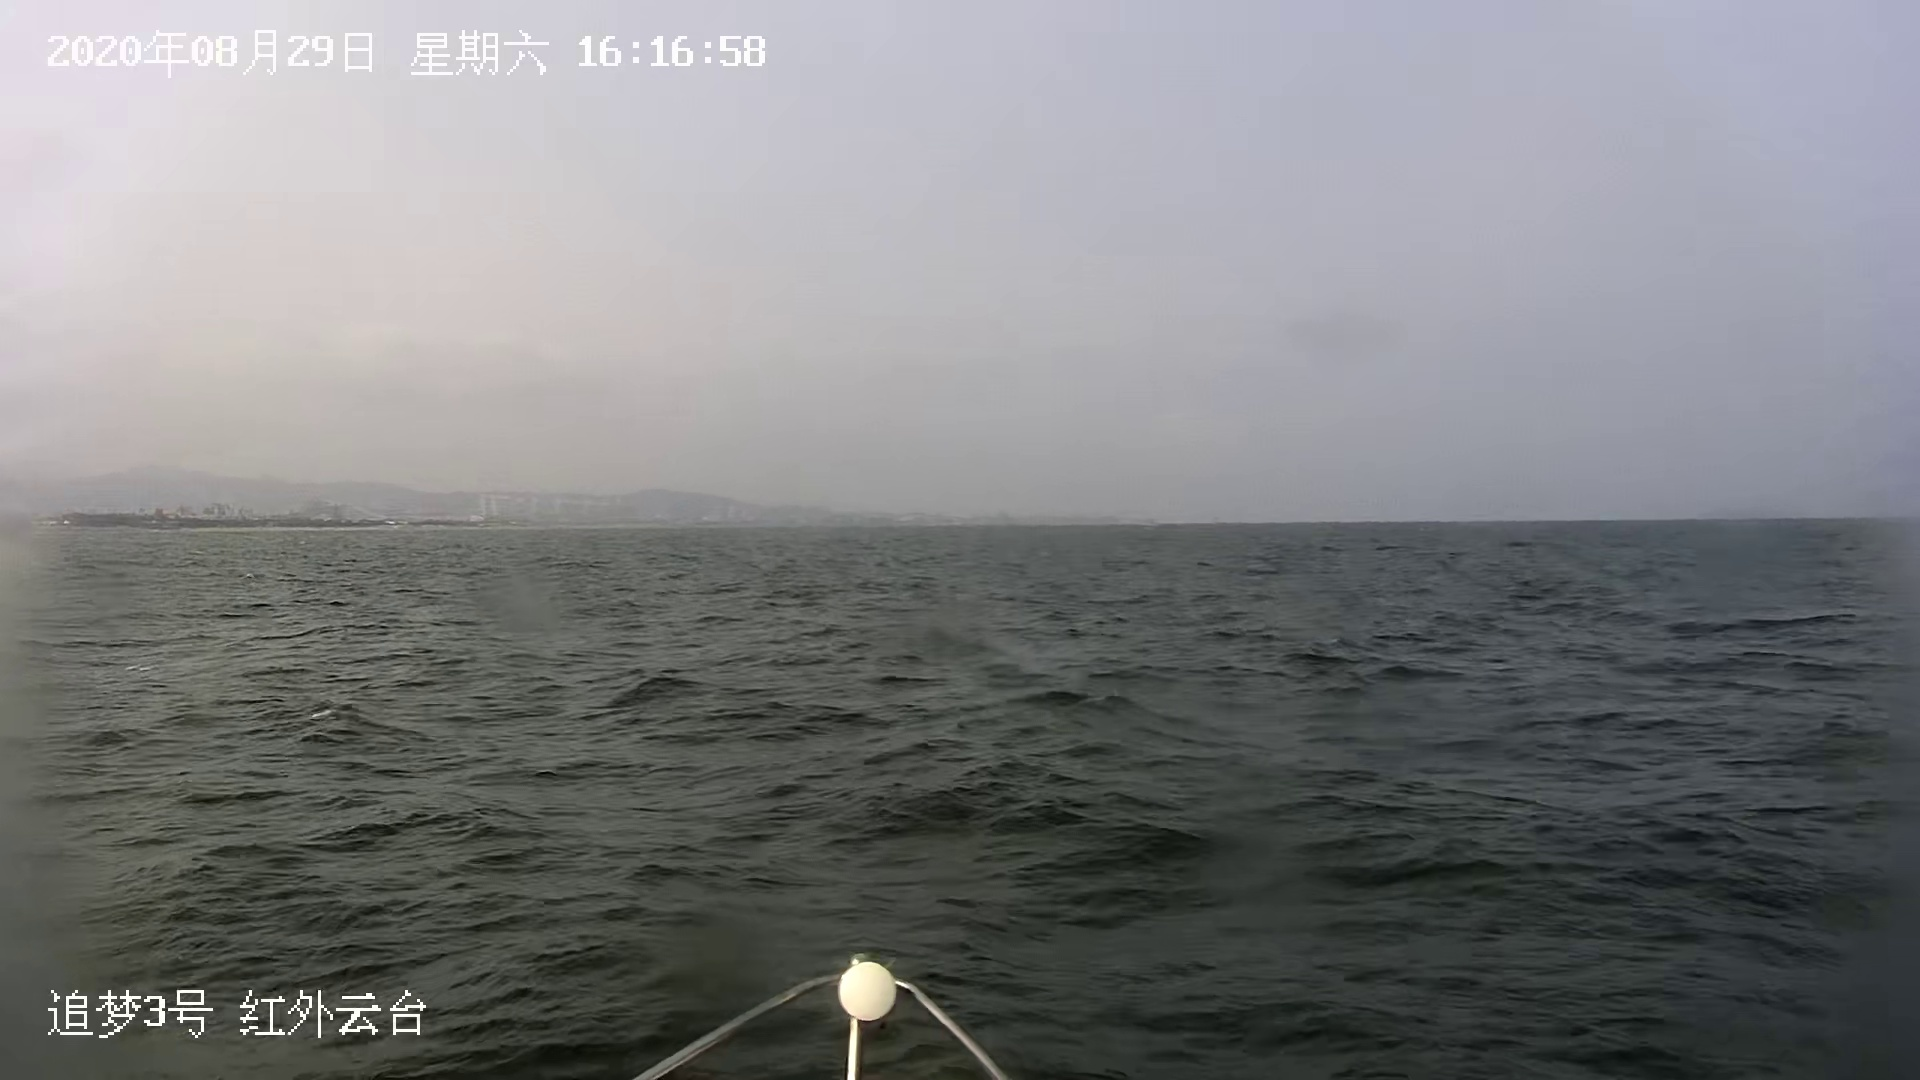coast: (3, 460, 1189, 531)
